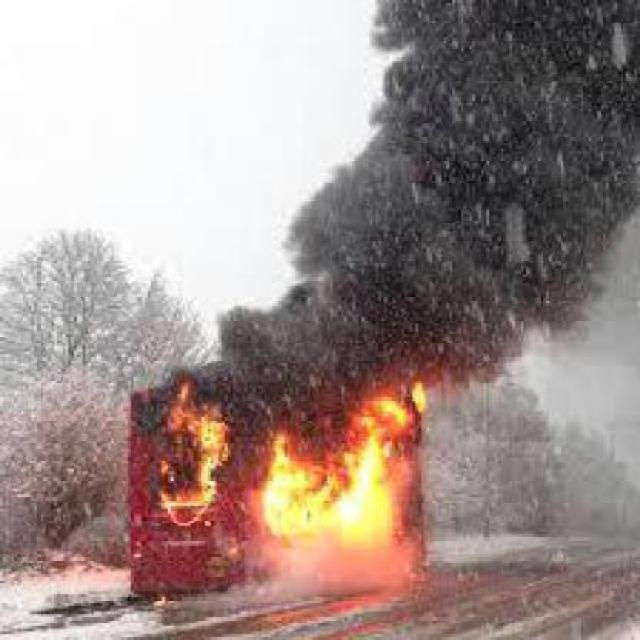Fire: (140, 366, 446, 554)
Smoke: (221, 0, 638, 372)
